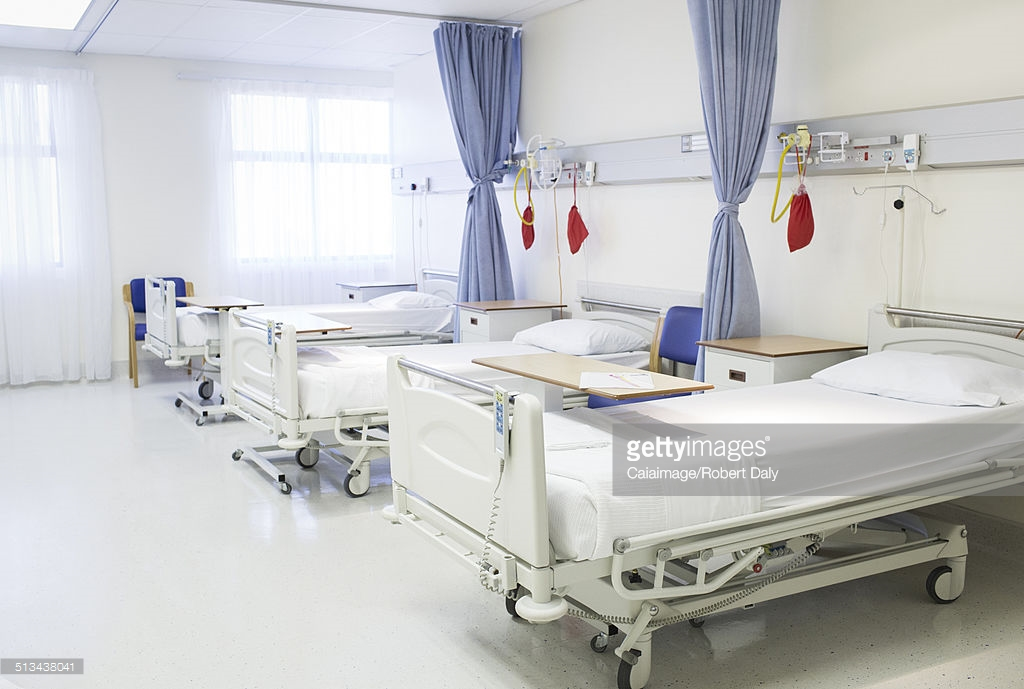bedside table: (476, 346, 733, 403), (236, 308, 358, 343), (178, 290, 262, 313)
hospital bed: (387, 319, 1014, 556), (222, 290, 674, 419), (146, 267, 460, 311)
